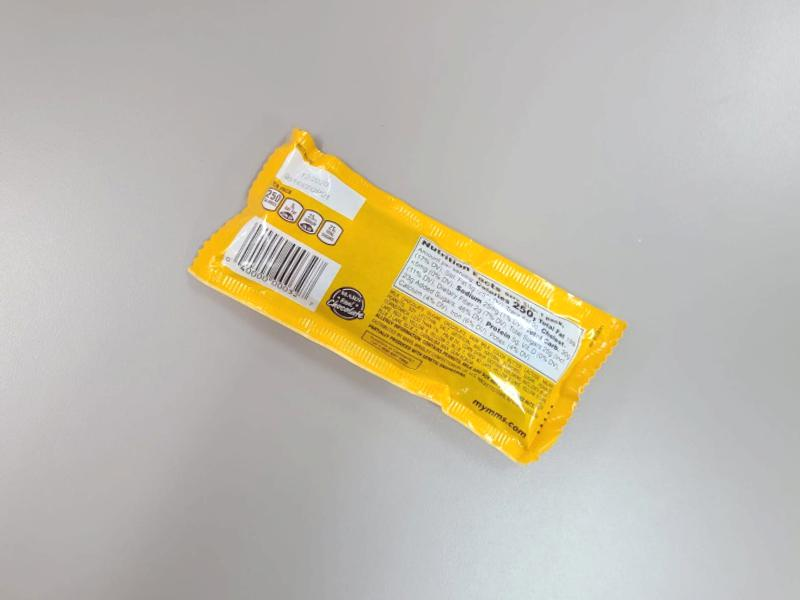m&m: (178, 129, 635, 477)
